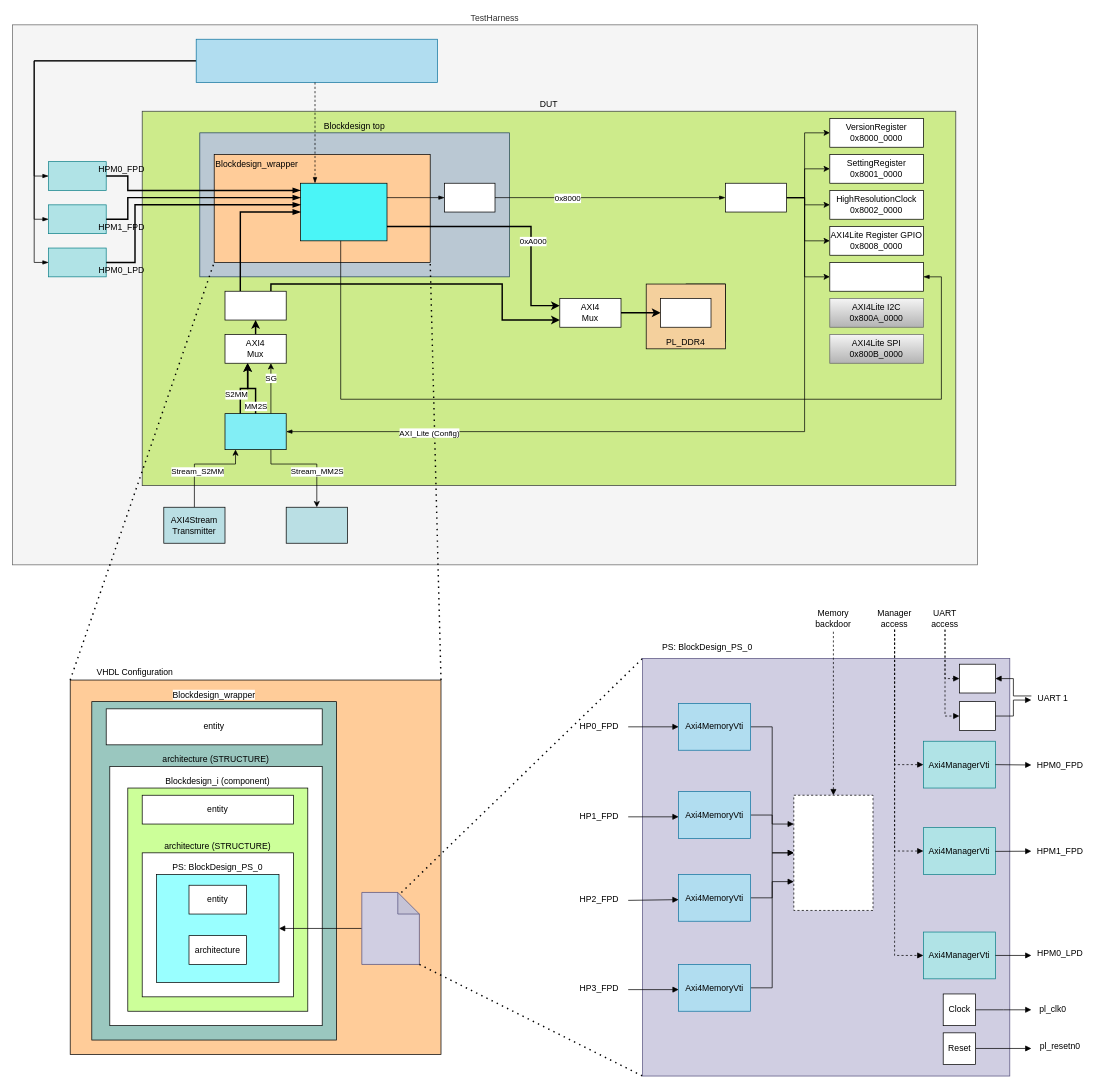
Some shapes in this 1096 by 1089 pixel diagram are drawn without their labels. Here are the shapes that lost their labels. From the top down, the centre of each, then its label:
point 316,60: TestController
point 77,175: Manager_0
point 343,212: PS8
point 469,197: AXI4 => AXI4L
point 756,197: AXI4L Demux
point 77,219: Manager_1
point 77,262: Manager_2
point 876,276: AXI4Lite UART 0x8009_0000
point 255,305: AXI4 Demux
point 685,312: AXI4_Sink
point 255,431: AXI4 DMA 0x8100_0000
point 316,525: AXI4Stream Receiver
point 977,678: UartRx
point 977,715: UartTx
point 833,852: Sparse Memory Model "PSDDR4"
point 390,928: PS_stub
